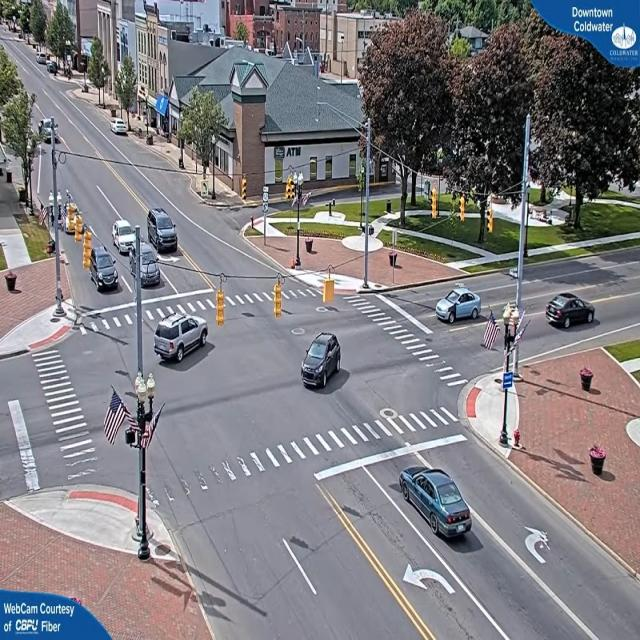car: (398, 468, 473, 540), (152, 309, 210, 364), (301, 334, 341, 392), (546, 292, 598, 330), (436, 285, 483, 325), (90, 247, 120, 292), (147, 209, 178, 251), (112, 221, 136, 254), (112, 120, 129, 136)
